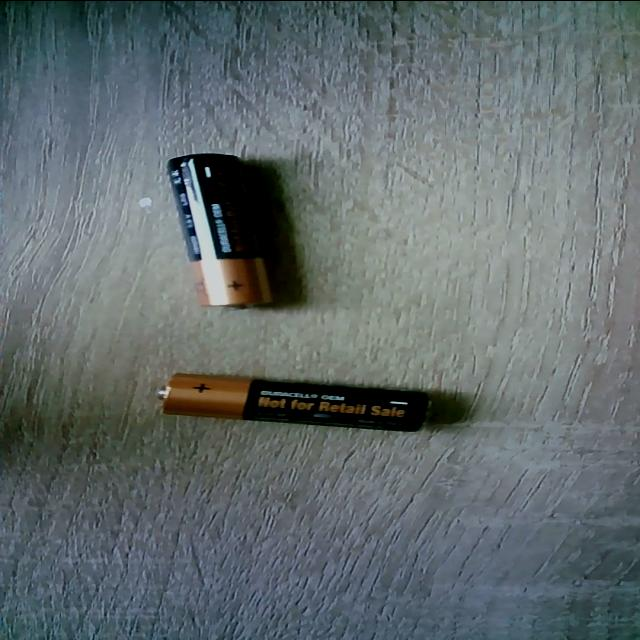AA: (164, 152, 274, 308), (155, 372, 429, 432)
